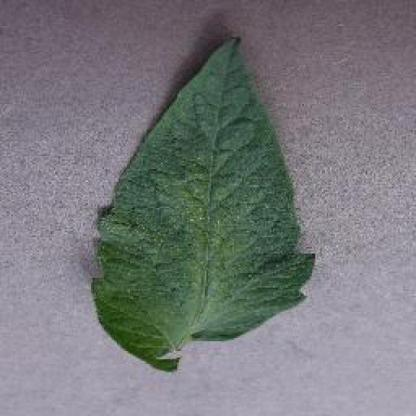Tomato_Spider_Mites: (95, 35, 316, 372)
